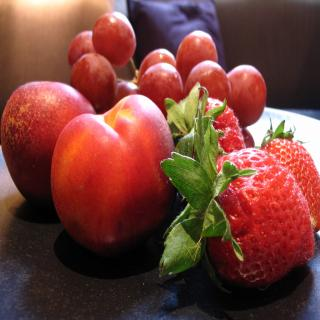Peach: (50, 94, 174, 253), (1, 80, 95, 203)
